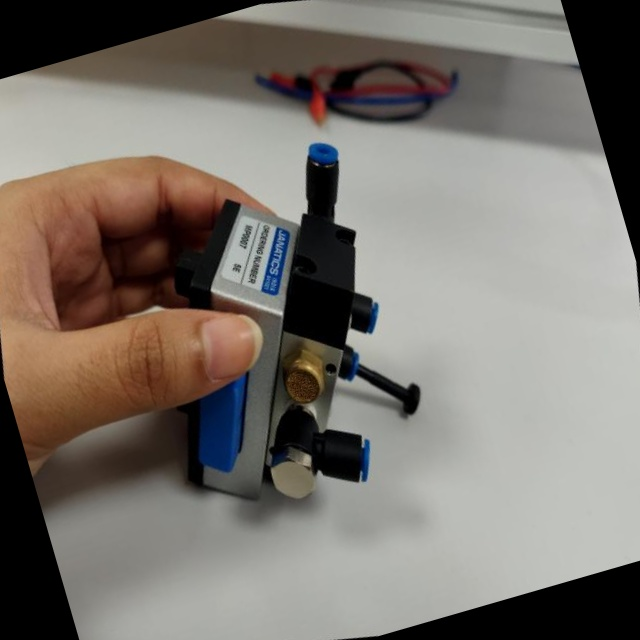5by2 DCV: (80, 69, 508, 566)
